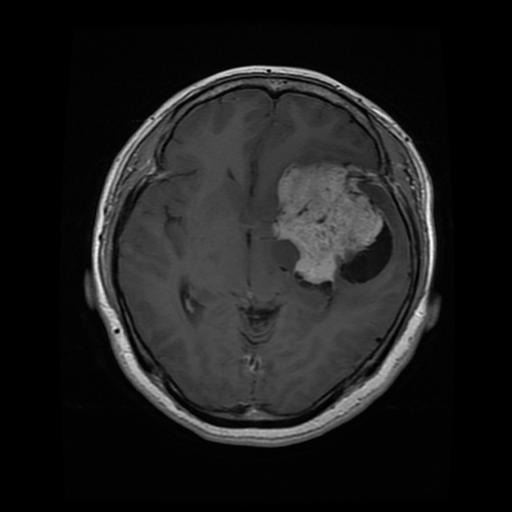Menigiomia_tumour: (273, 163, 379, 280)
